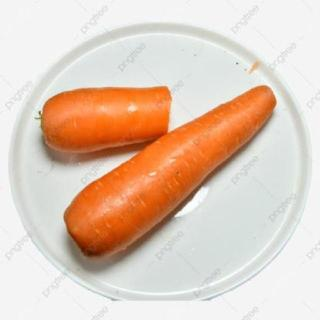carrot: (61, 83, 281, 263), (38, 80, 172, 150)
